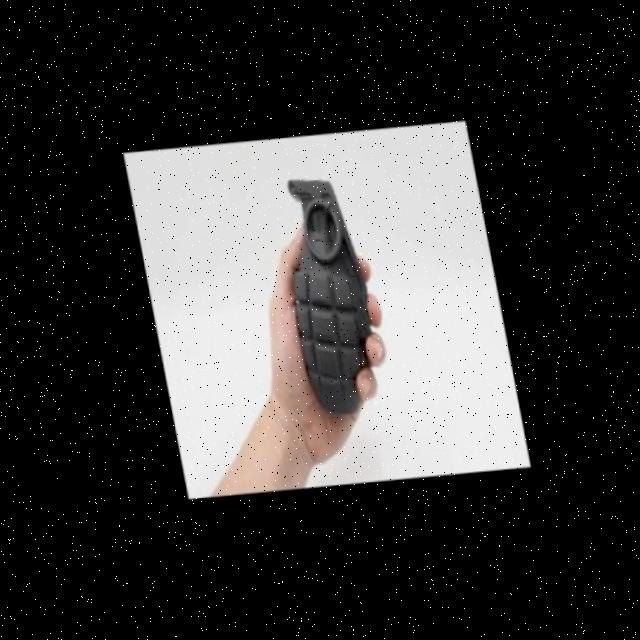grenade: (267, 161, 395, 444)
